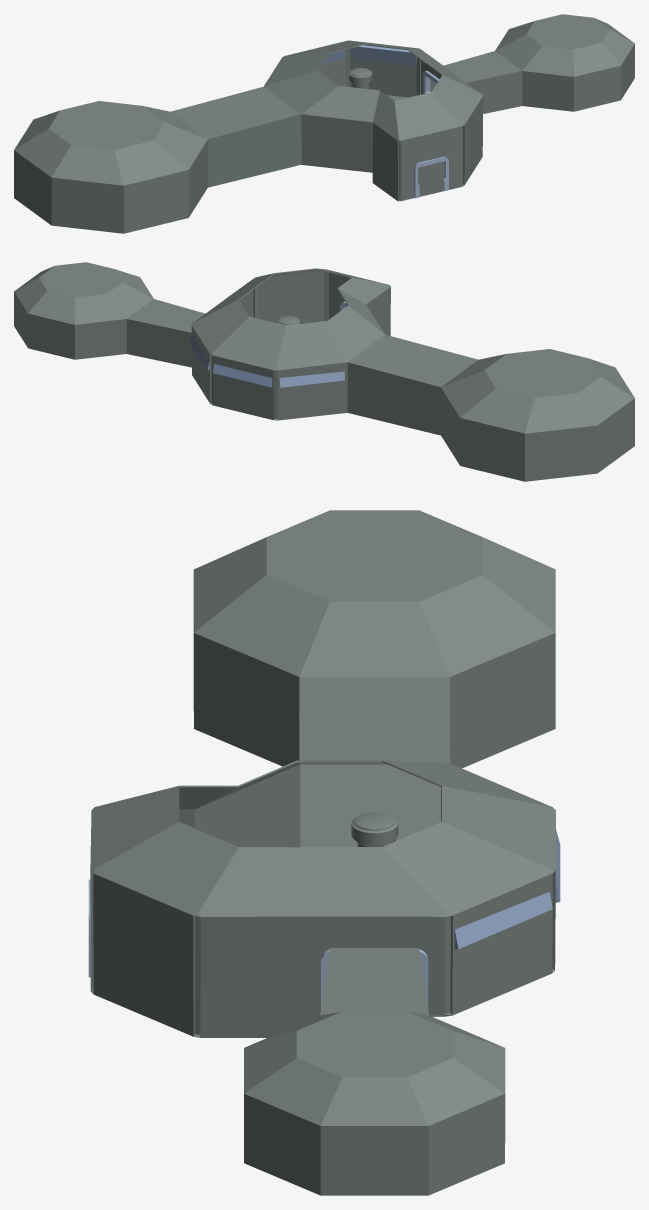
3 views of the same model, one above another, from view 1: azimuth 30°, elevation 25°; view 2: azimuth 150°, elevation 25°; view 3: azimuth 270°, elevation 25° (orthographic). The views are drawn at different scales.
Parts seen in each view (by area): view 1: 大廳; view 2: 大廳; view 3: 大廳.
Part boxes in pixels (left/top/right/bottom): 大廳: left=14, top=14, right=634, bottom=233; 大廳: left=14, top=262, right=634, bottom=481; 大廳: left=88, top=510, right=560, bottom=1195.
Size of the model in its own units: 30210 by 3977 by 10485.
